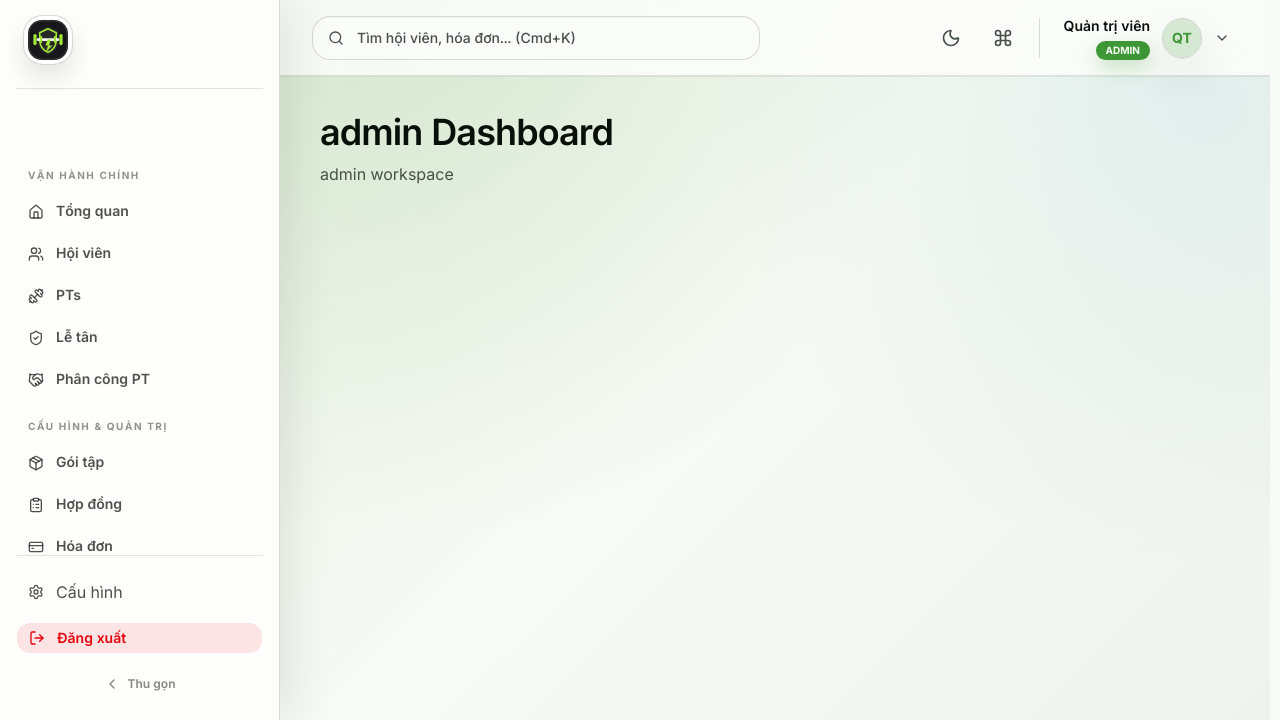
Scenario: WorkspaceShell › shows only the account identity item for admin
Press the mouse on the button with aria-label "Mở menu người dùng" at (1147, 38), box [1056,10,1238,66]
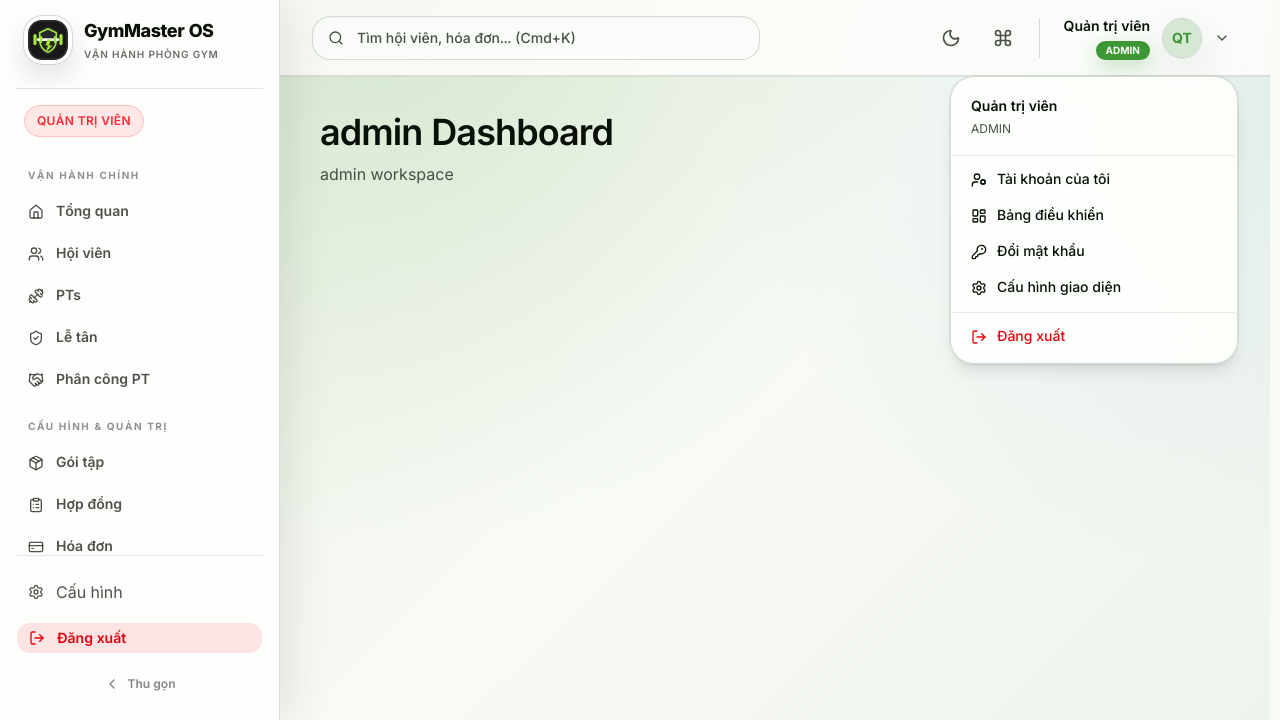
Now the menu item "Tài khoản của tôi" is shown, box [971,171,1110,188]
Now the menu item "Cấu hình giao diện" is shown, box [971,279,1121,296]
